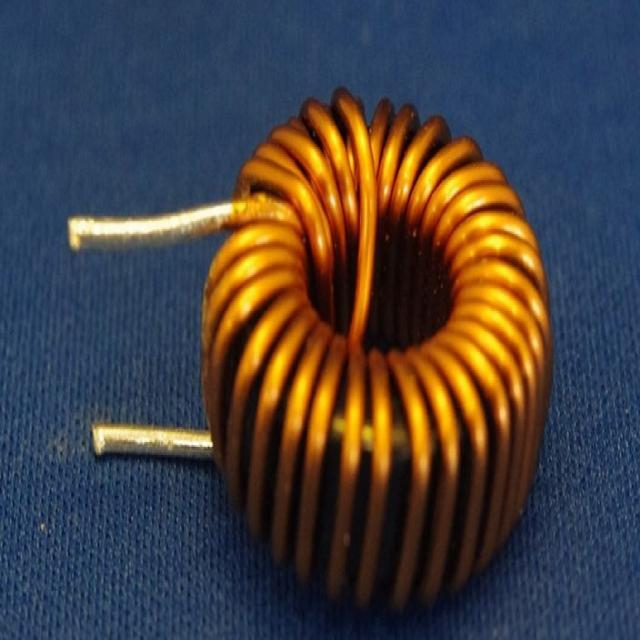Inductor: (68, 89, 551, 608)
